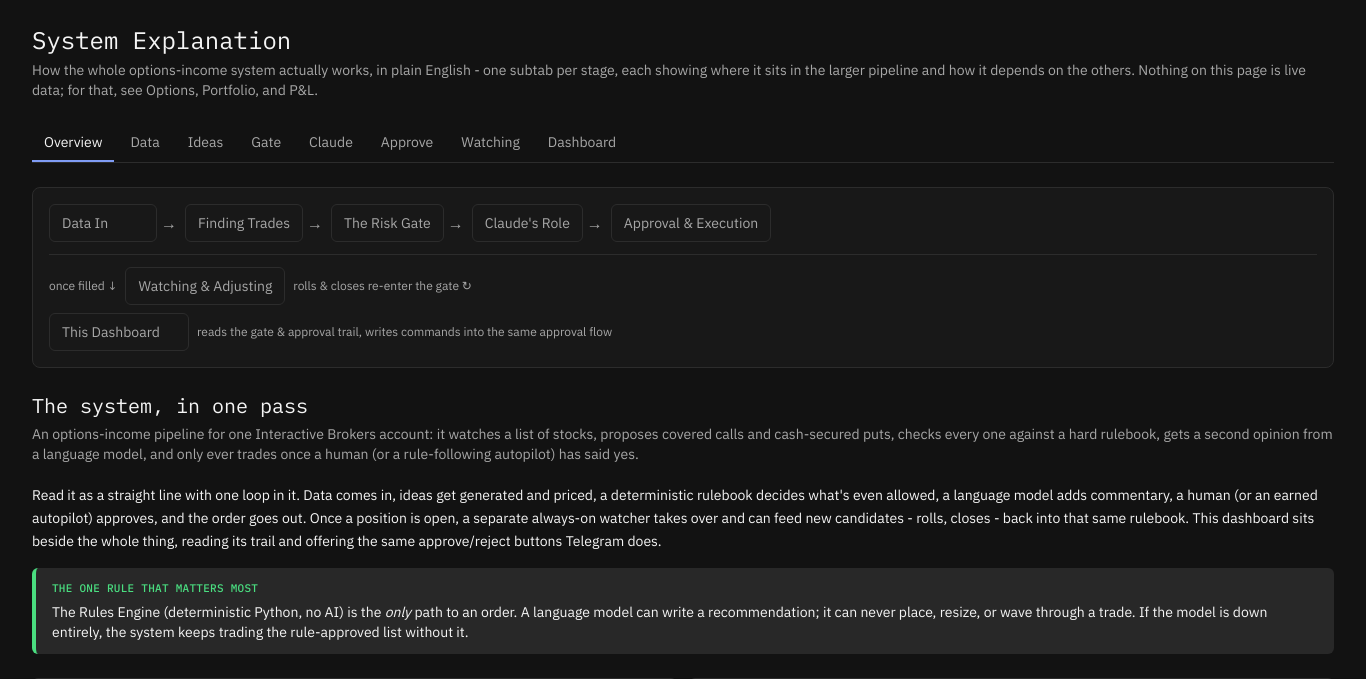
Scenario: ExplainShell › switches panels via the tab bar
The width and height of the screenshot is (1366, 679).
Click the button "Gate": (266, 143) [239,124,293,162]
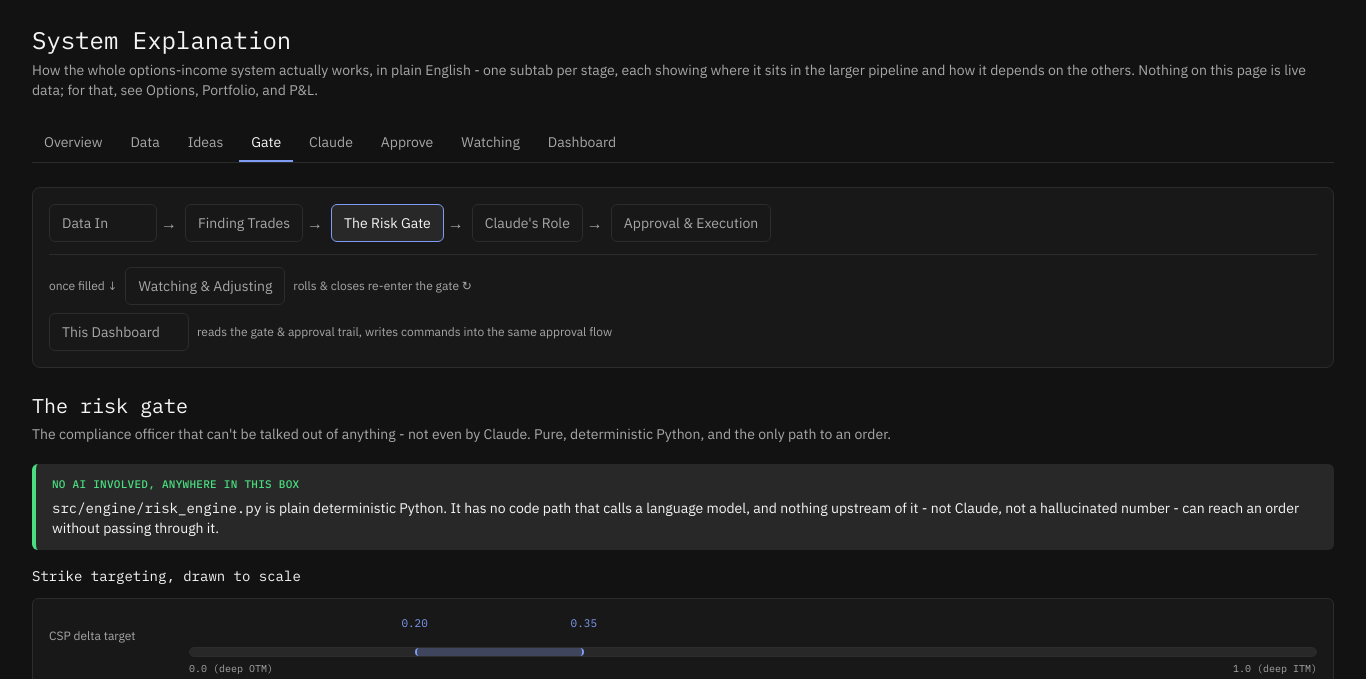
Check: the heading "The risk gate" is shown, box [32,392,188,419]
Check: the heading "The system, in one pass" is gone
